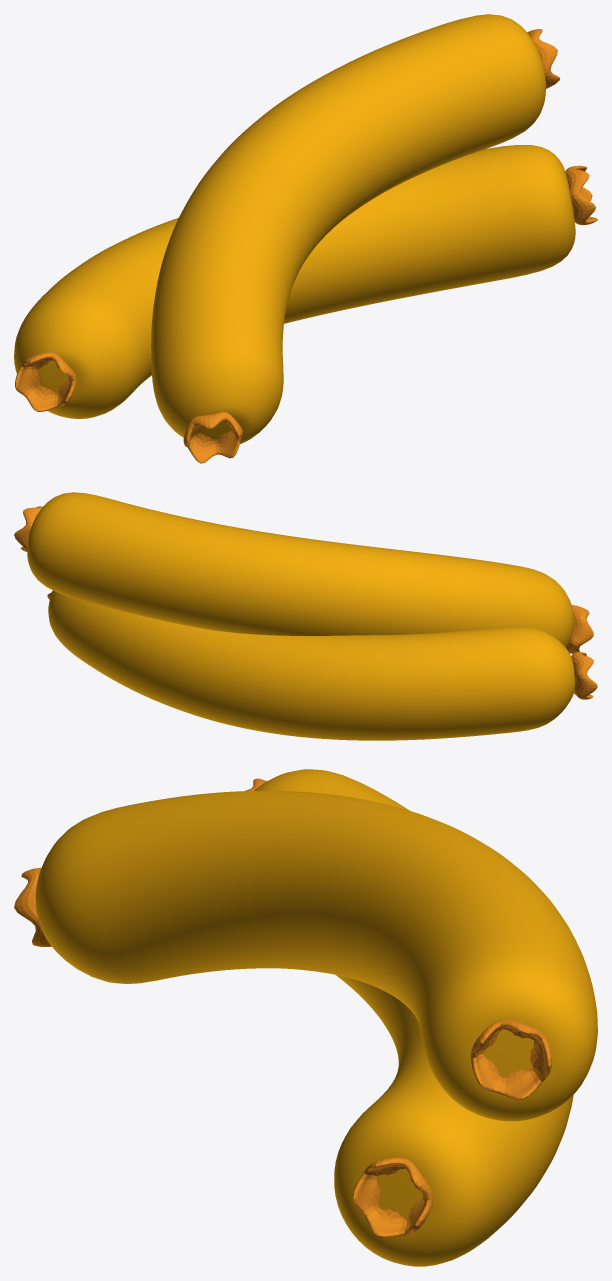
The model's file is sausages.fbx.
The picture shows the model from 3 angles, top to bottom: view 1: azimuth 30°, elevation 25°; view 2: azimuth 150°, elevation 25°; view 3: azimuth 270°, elevation 25°; orthographic projection. The views are drawn at different scales.
Visible parts, largest first — view 1: Circle; view 2: Circle; view 3: Circle.
Boxes of the visible parts, box(x1,y1,x2,y2) form: Circle: box(14, 14, 597, 463); Circle: box(14, 492, 597, 740); Circle: box(14, 769, 597, 1266).
Bounding box in the file's own units: 76.04 × 27.36 × 45.18.
